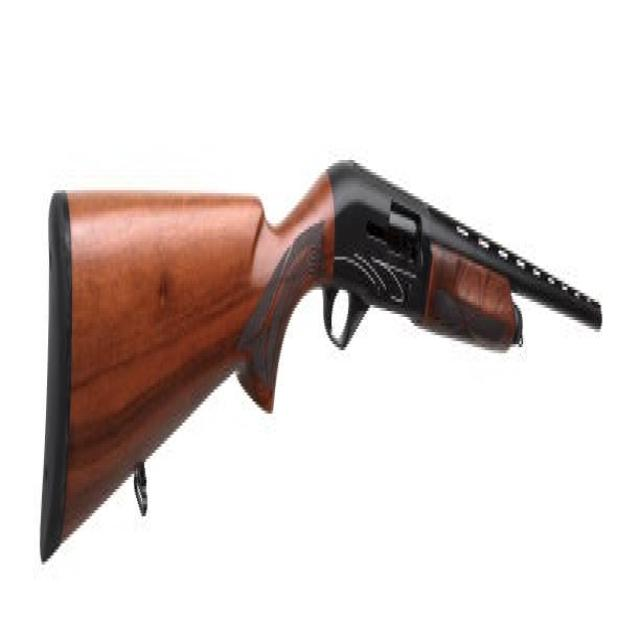rifle: (35, 134, 607, 577)
